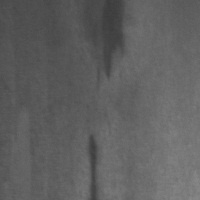inclusion: (94, 1, 133, 87), (82, 130, 103, 200)
